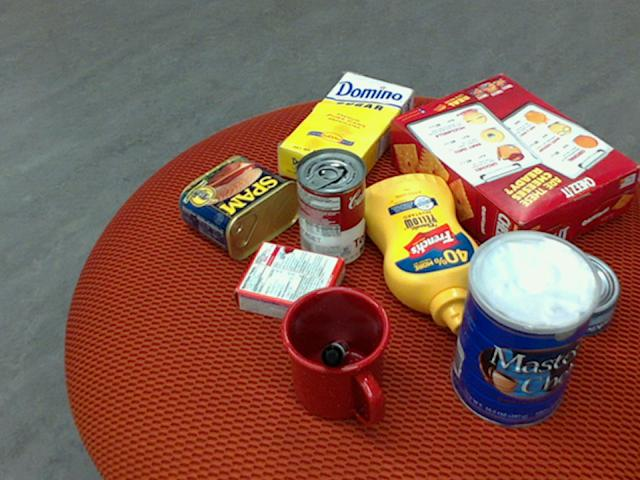cracker_box: (388, 72, 638, 266)
gelatin_box: (230, 240, 340, 331)
large_marker: (319, 340, 348, 368)
master_chef_can: (449, 232, 602, 429)
mug: (277, 286, 389, 426)
mustard_bottle: (357, 173, 482, 335)
potted_meat_can: (177, 153, 300, 259)
sugar_box: (275, 71, 412, 194)
tomato_soup_can: (294, 145, 365, 266)
tuna_fish_can: (523, 249, 619, 337)
